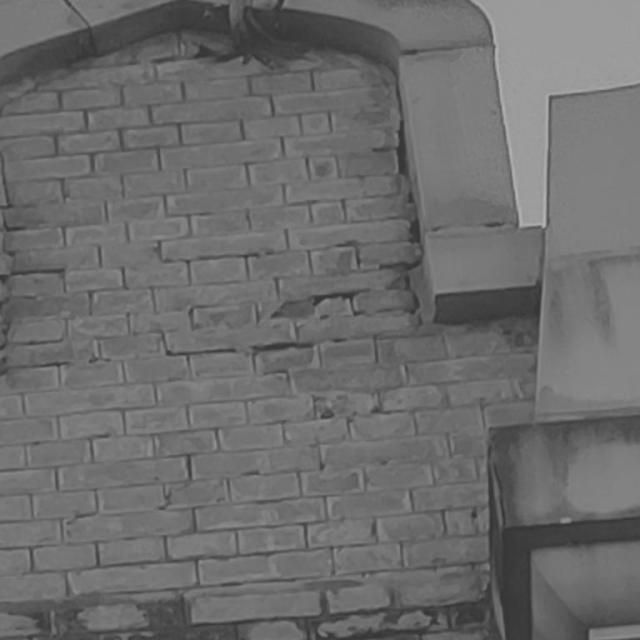crack: (394, 82, 425, 330), (1, 62, 92, 115), (1, 152, 15, 373), (310, 290, 367, 317)
